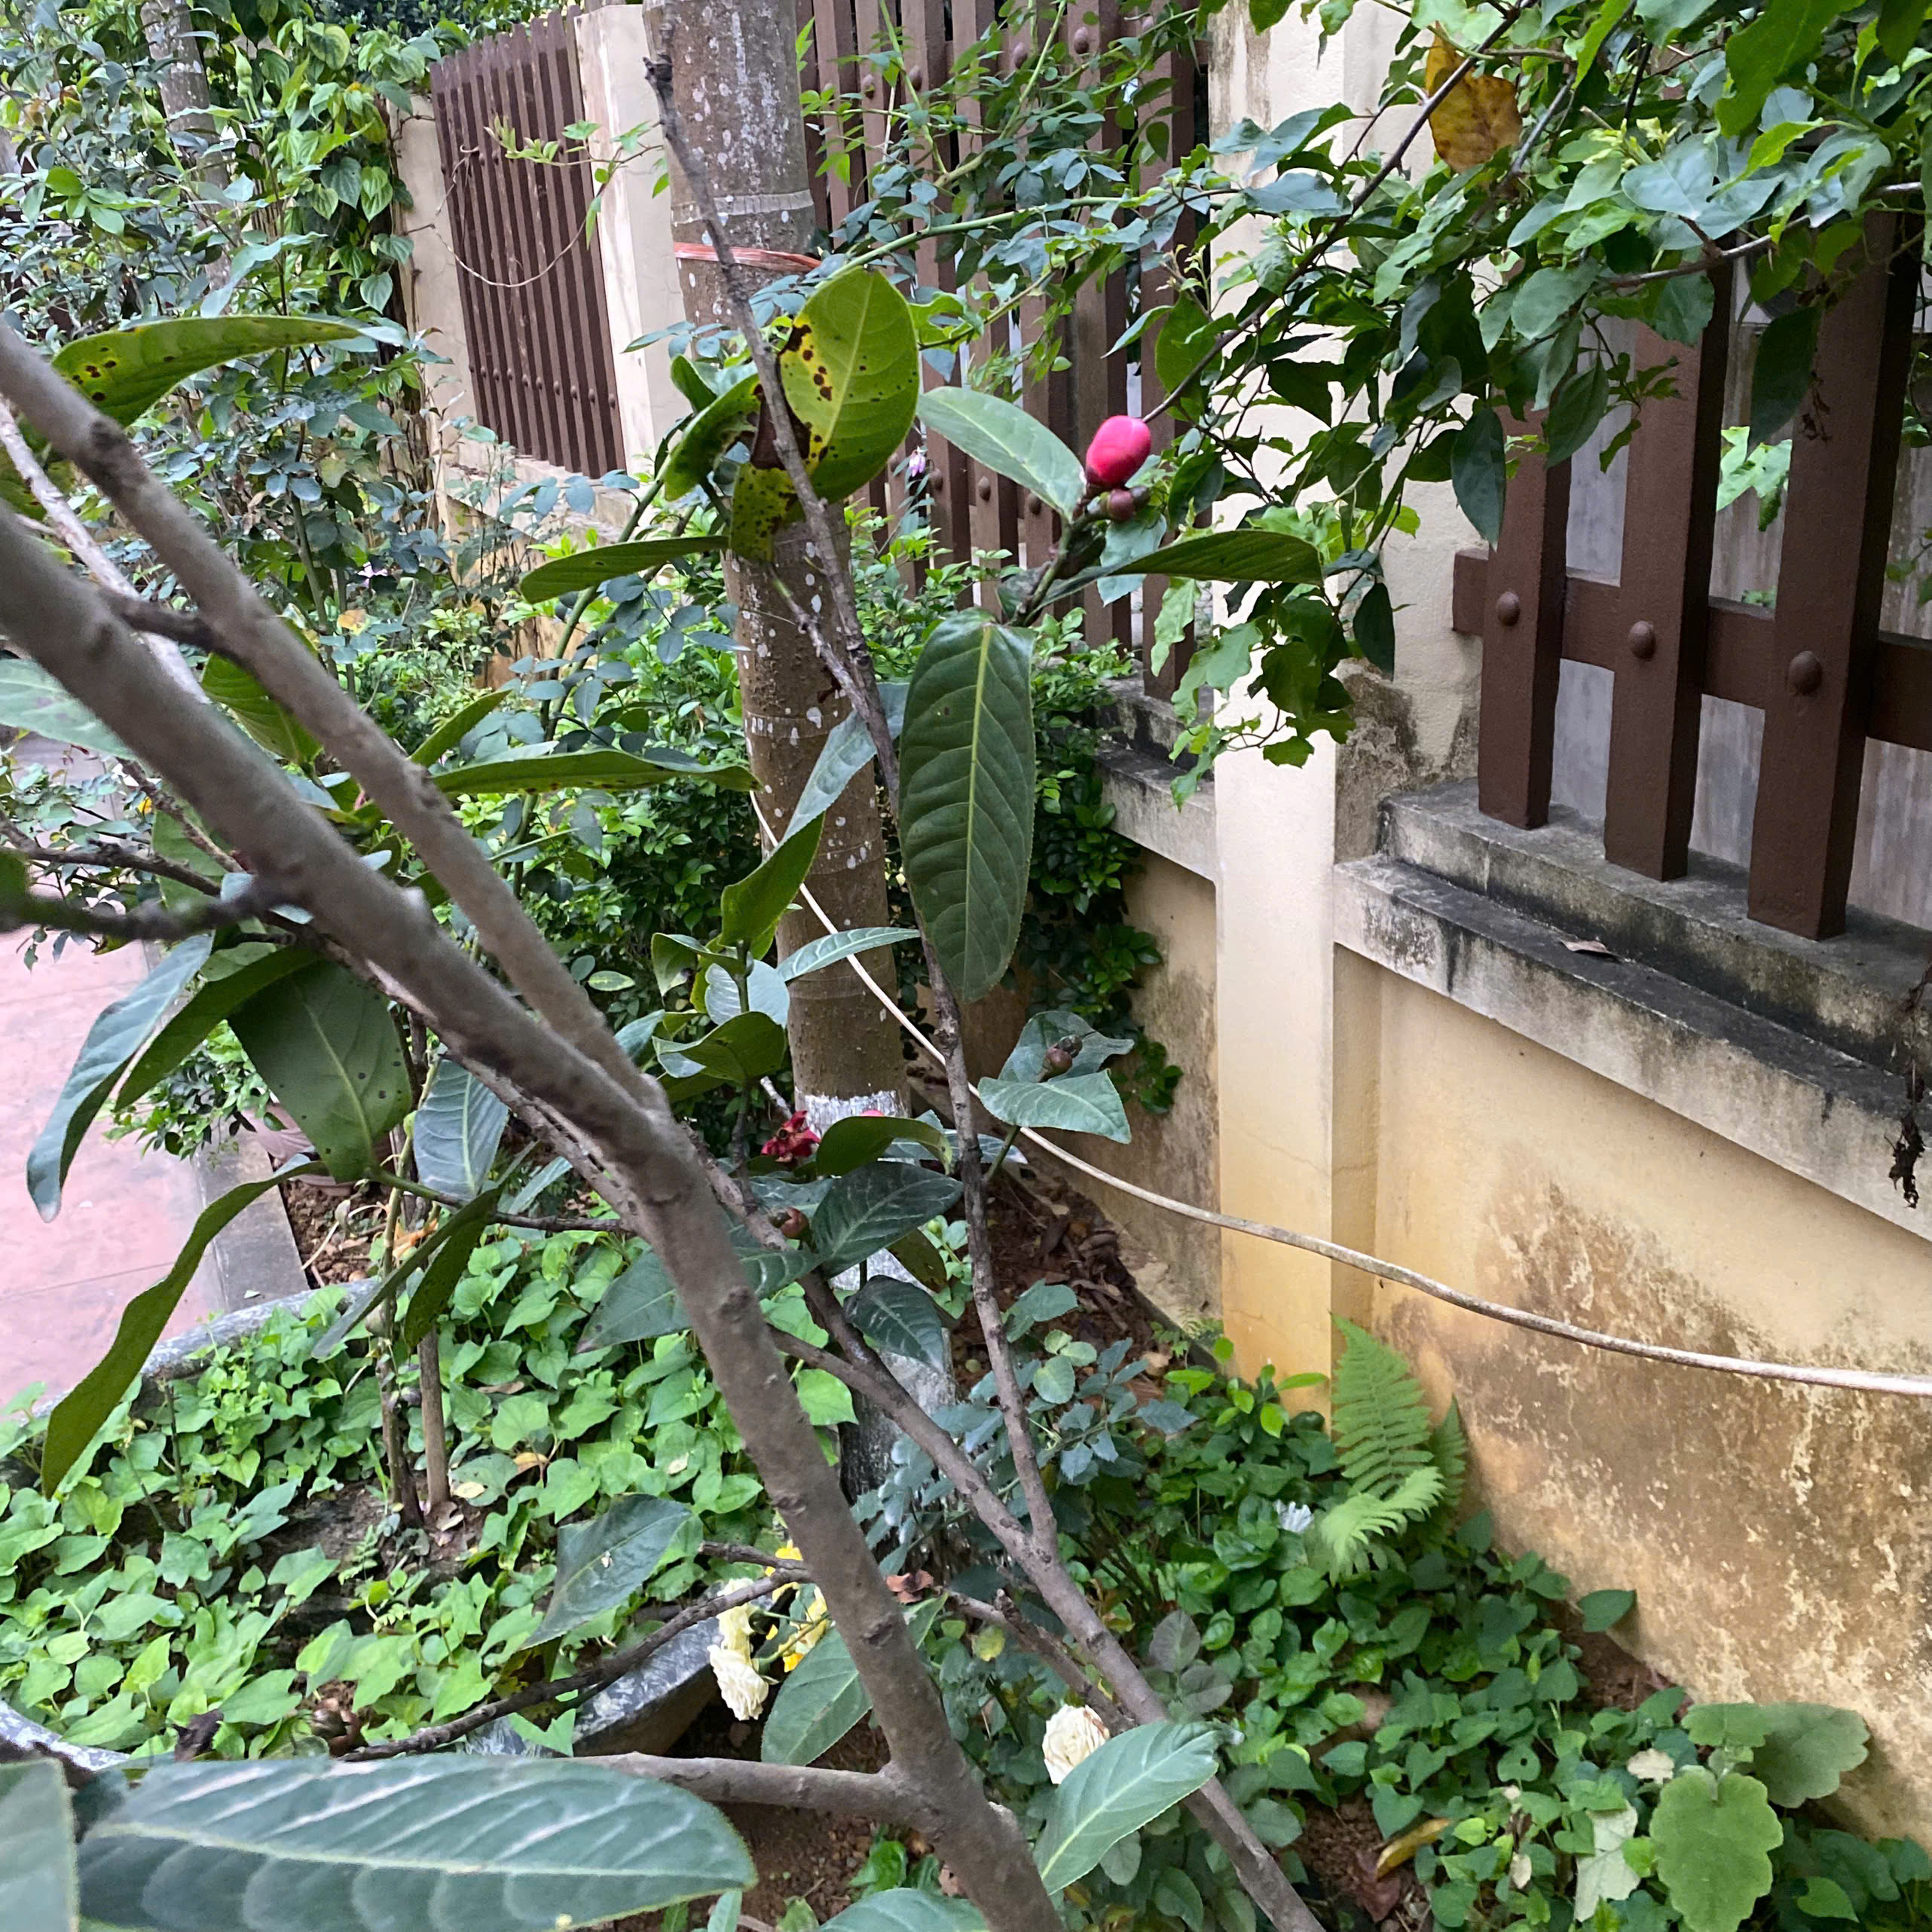hoa_hai_duong: (0, 203, 1286, 1921)
